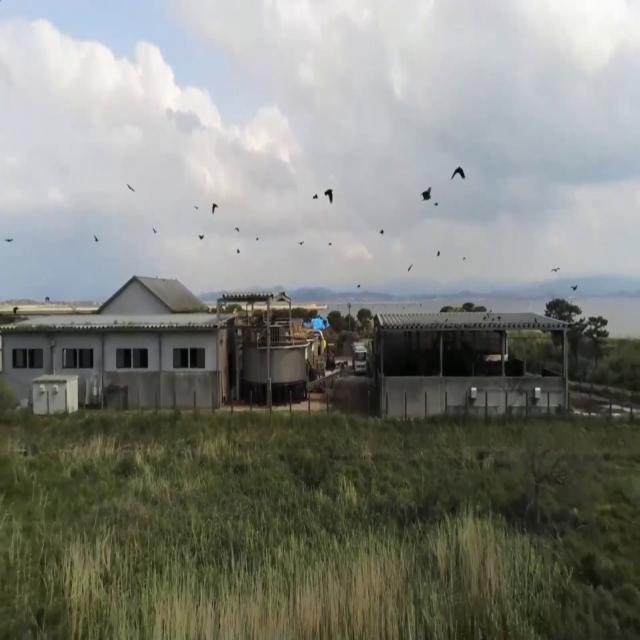bird: (450, 155, 466, 194), (420, 174, 432, 210), (323, 179, 333, 212), (126, 175, 136, 199), (551, 258, 561, 280), (5, 229, 13, 250), (198, 226, 205, 248)
